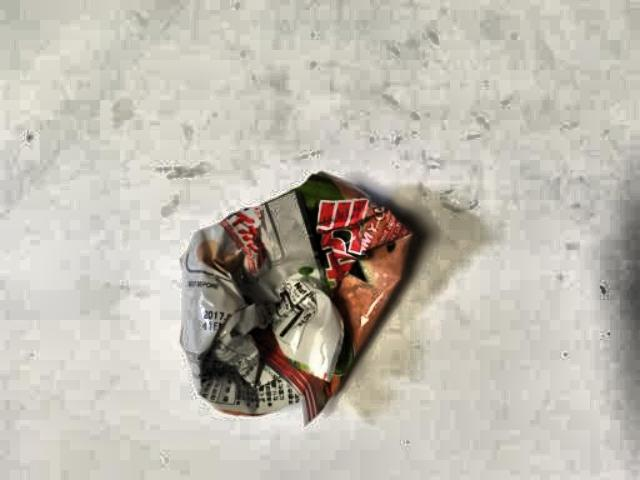Plastic: (132, 154, 445, 451)
